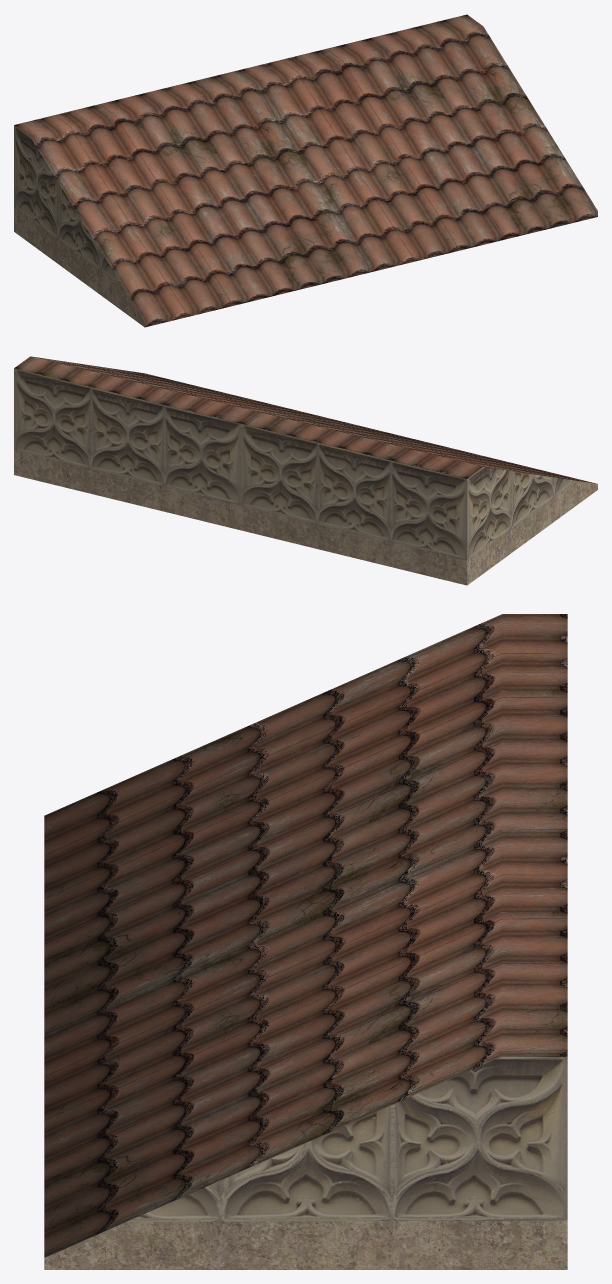
File: SH3D_Sparta_Roof1.obj
3 renders of one model, top to bottom at view 1: azimuth 30°, elevation 25°; view 2: azimuth 150°, elevation 25°; view 3: azimuth 270°, elevation 25°, orthographic. The views are drawn at different scales.
Visible parts, largest first — view 1: Base_TileRoof0, Base_RoofTrim0; view 2: Base_RoofTrim0, Base_TileRoof0; view 3: Base_TileRoof0, Base_RoofTrim0.
Boxes of the visible parts, x1=… form: Base_TileRoof0: x1=14, y1=14, x2=597, y2=327; Base_RoofTrim0: x1=14, y1=125, x2=144, y2=326; Base_RoofTrim0: x1=14, y1=368, x2=597, y2=585; Base_TileRoof0: x1=14, y1=356, x2=595, y2=483; Base_TileRoof0: x1=44, y1=614, x2=567, y2=1257; Base_RoofTrim0: x1=44, y1=1056, x2=567, y2=1269.
Bounding box in the file's own units: 4 × 0.9 × 2.
